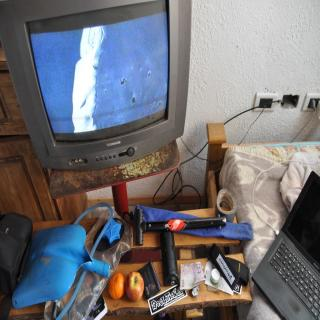Apple: (124, 275, 146, 308)
Orange: (107, 272, 127, 305)
